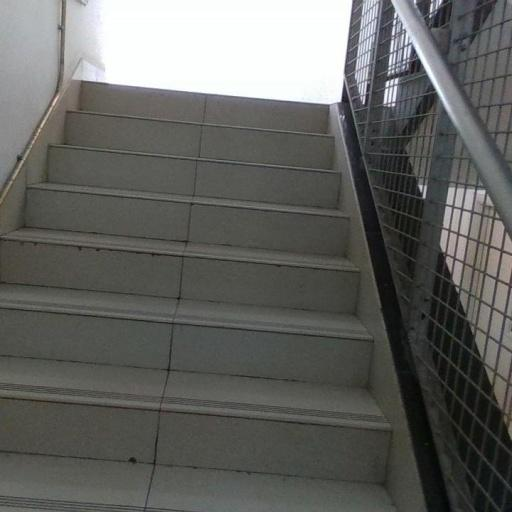stairs: (0, 83, 393, 511)
